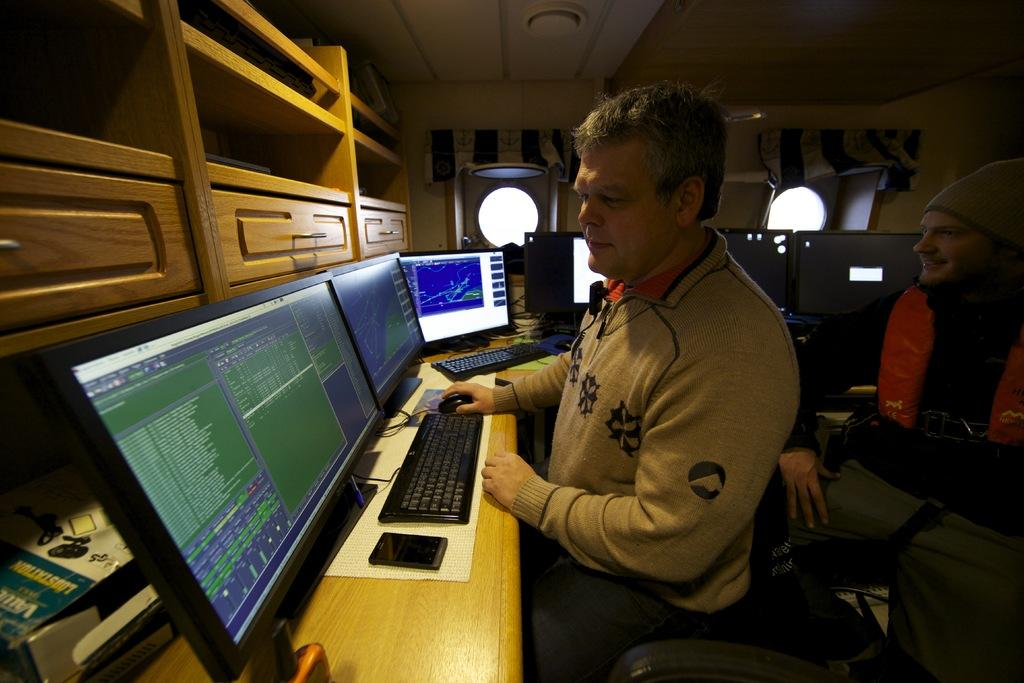Computer-monitor: (38, 283, 396, 683), (315, 251, 428, 421), (794, 227, 922, 315), (399, 252, 513, 350), (525, 232, 609, 327), (714, 226, 795, 312)
